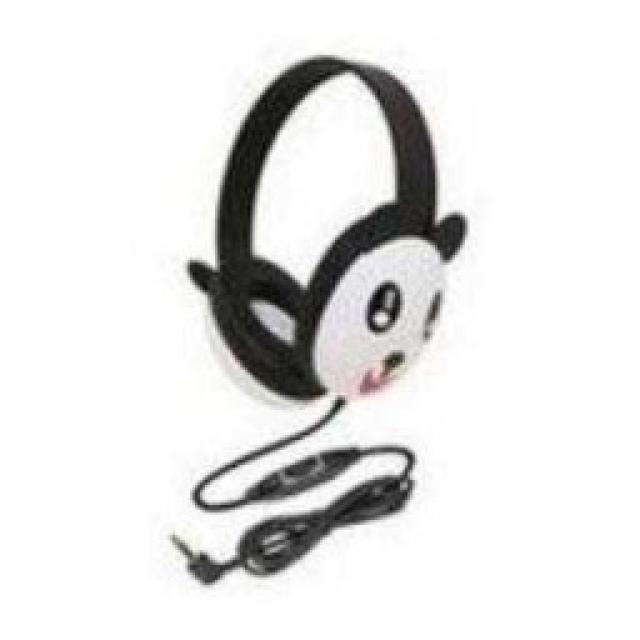headphones: (185, 53, 465, 405)
